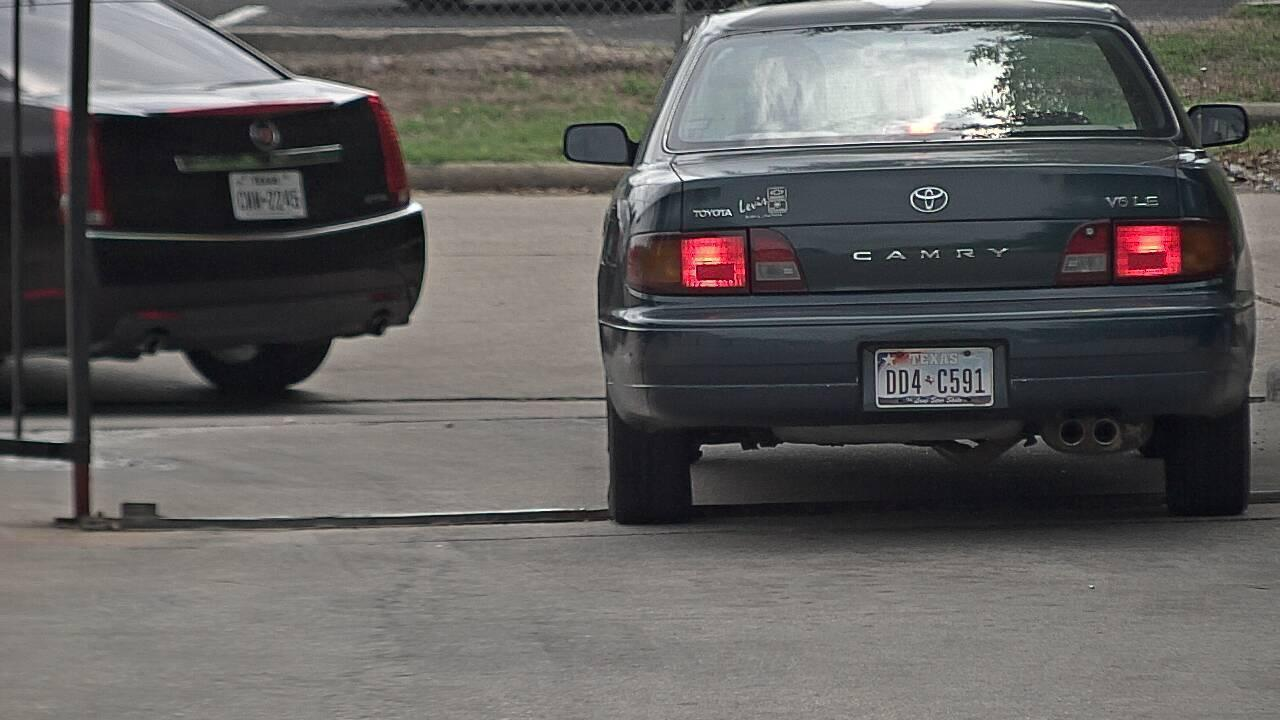placa de veiculo: (863, 341, 1024, 424), (213, 162, 326, 224)
